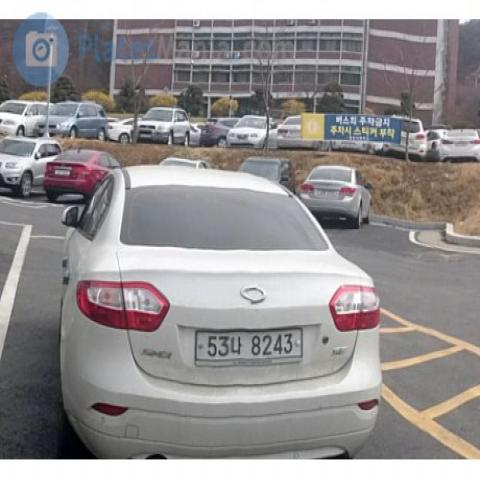LP: (191, 325, 305, 371)
